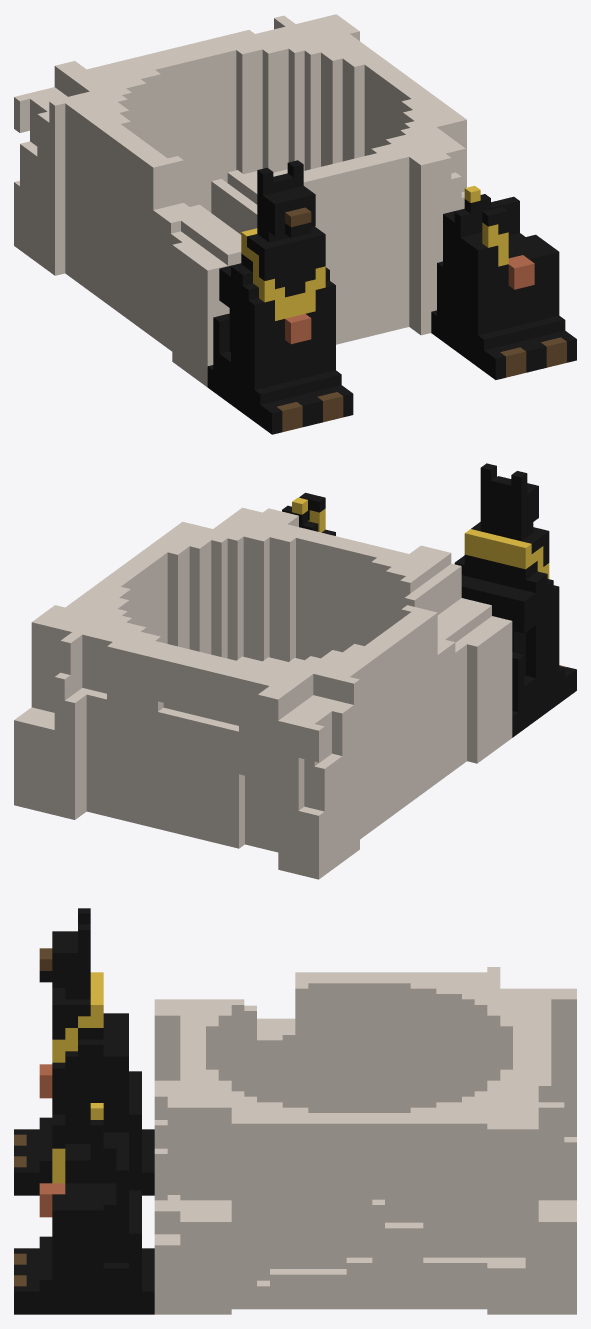
Rendered from Well_new.obj.
The picture shows the model from 3 angles, top to bottom: view 1: azimuth 30°, elevation 25°; view 2: azimuth 150°, elevation 25°; view 3: azimuth 270°, elevation 25°; orthographic projection. The views are drawn at different scales.
Size of the model in its own units: 3 by 2.2 by 4.4.
